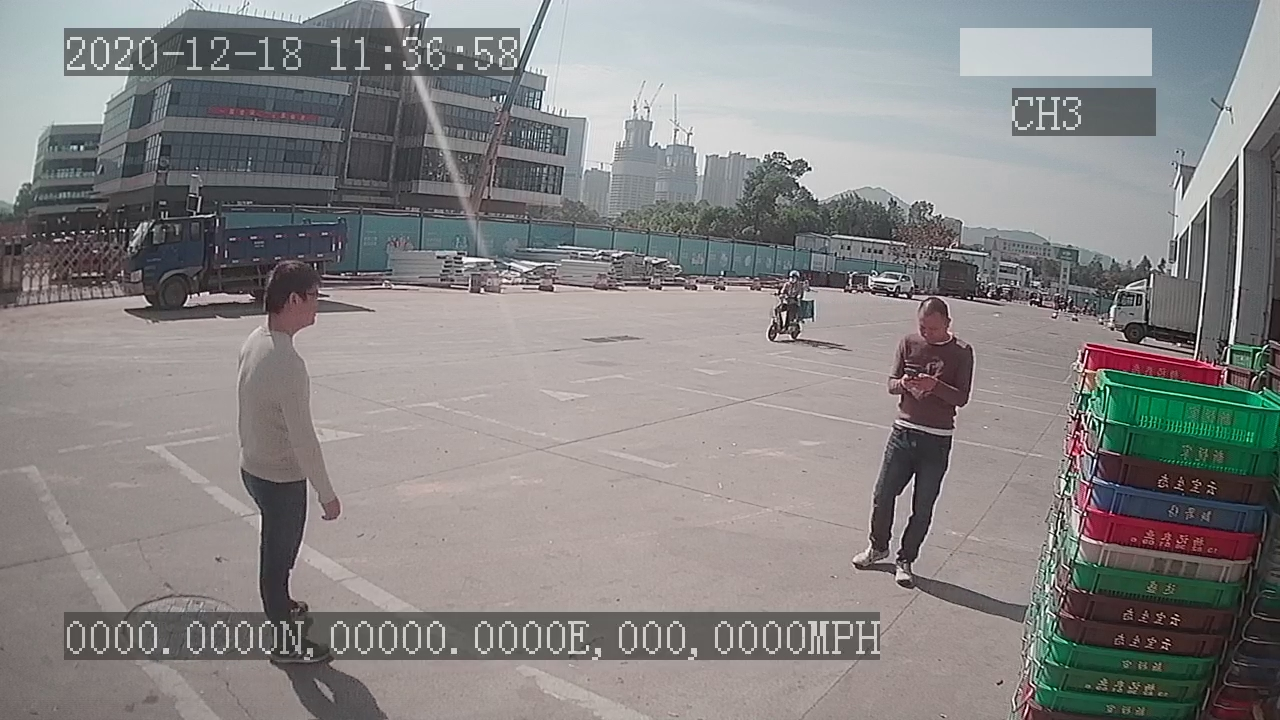person: (852, 293, 978, 584)
